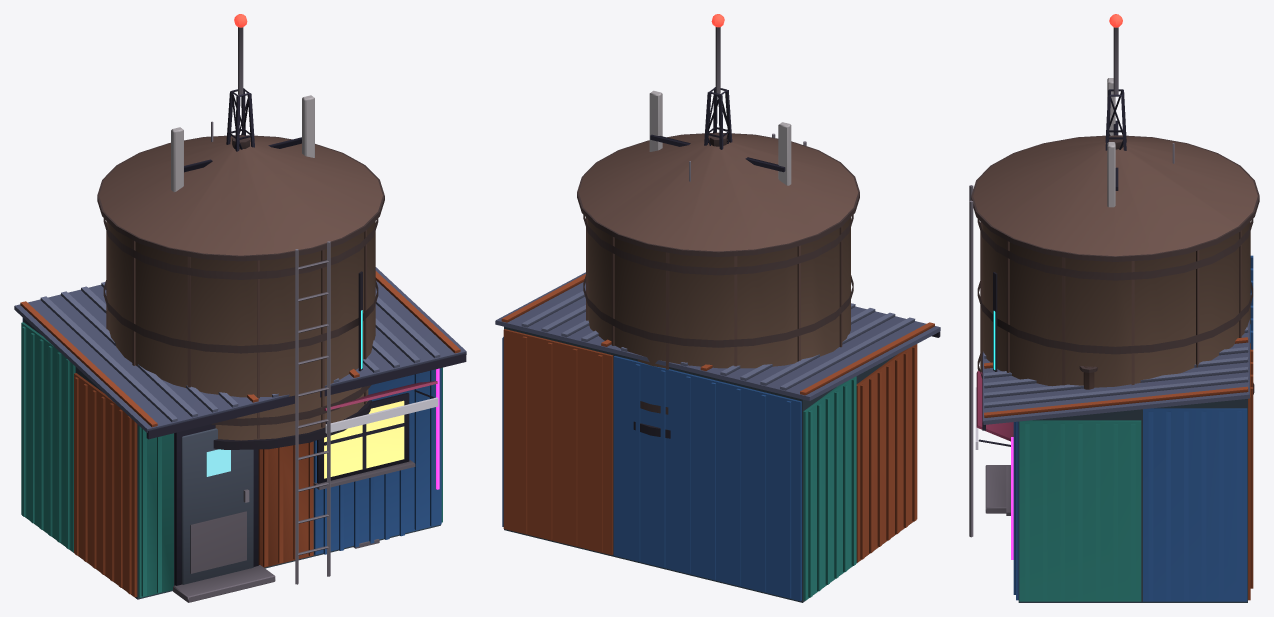
The model's file is props.glb.
3 views of the same model, side by side, from view 1: azimuth 30°, elevation 25°; view 2: azimuth 150°, elevation 25°; view 3: azimuth 270°, elevation 25° (orthographic).
Visible parts, largest first — view 1: Shack, WaterTank, AntennaMast; view 2: Shack, WaterTank, AntennaMast; view 3: WaterTank, Shack, AntennaMast.
Part boxes in pixels (left/top/right/bottom): Shack: left=14, top=267, right=466, bottom=602; WaterTank: left=97, top=135, right=384, bottom=584; AntennaMast: left=171, top=14, right=314, bottom=192; Shack: left=495, top=272, right=940, bottom=602; WaterTank: left=577, top=132, right=859, bottom=438; AntennaMast: left=649, top=14, right=791, bottom=185; WaterTank: left=969, top=135, right=1259, bottom=537; Shack: left=975, top=255, right=1253, bottom=602; AntennaMast: left=1105, top=14, right=1174, bottom=207.
Size of what is drawn, in the model's own units: 4 by 6.13 by 3.14.
Materials: 1 (1 with a texture image).
